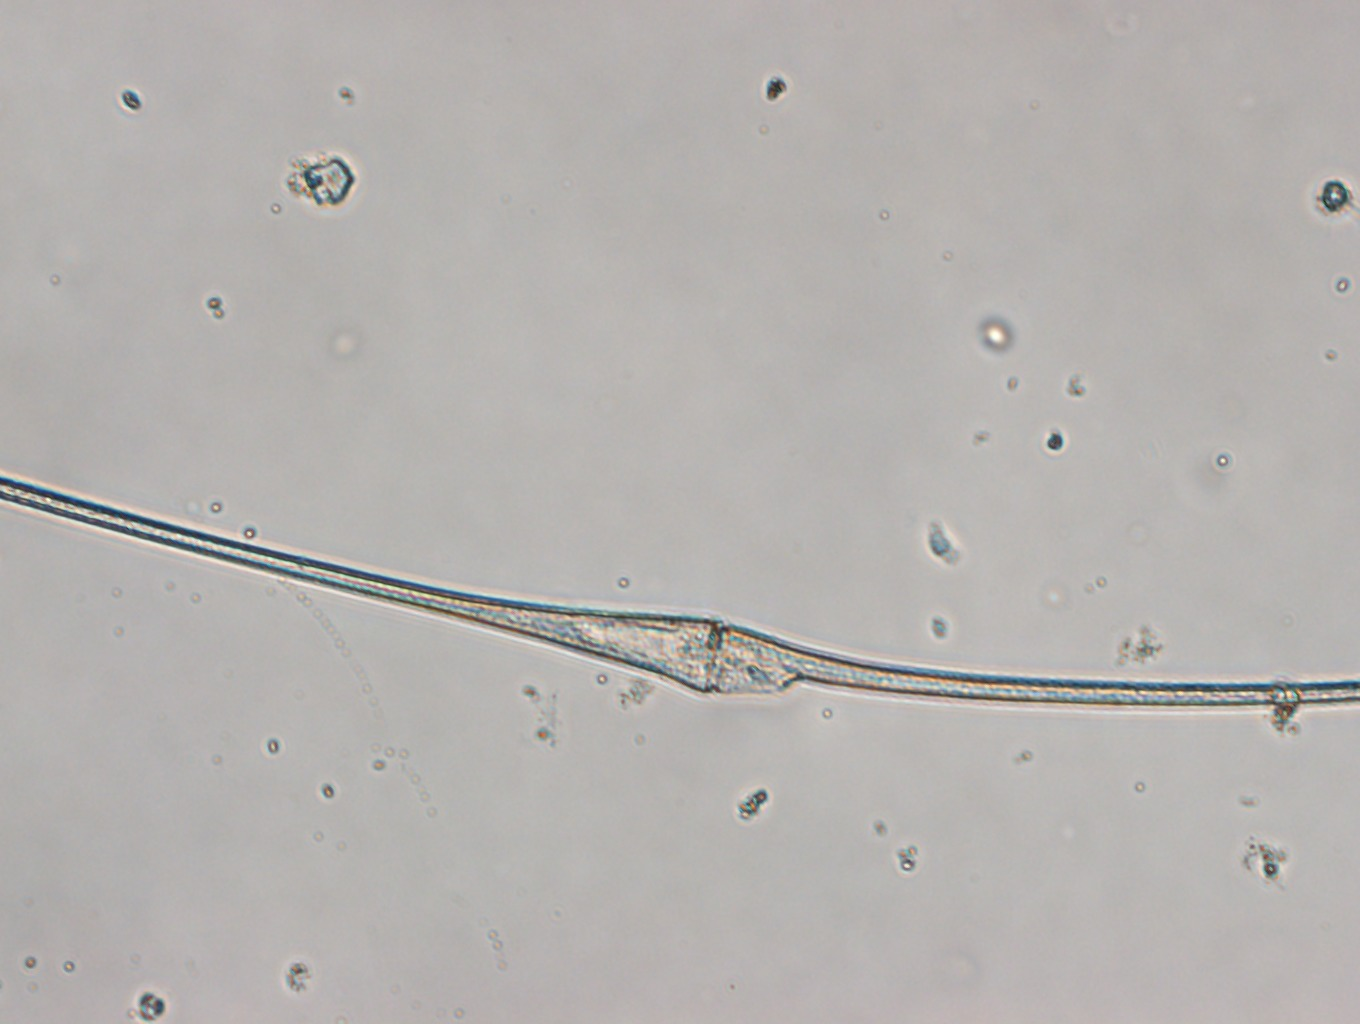ceratium fusus: (1, 474, 1360, 703)
